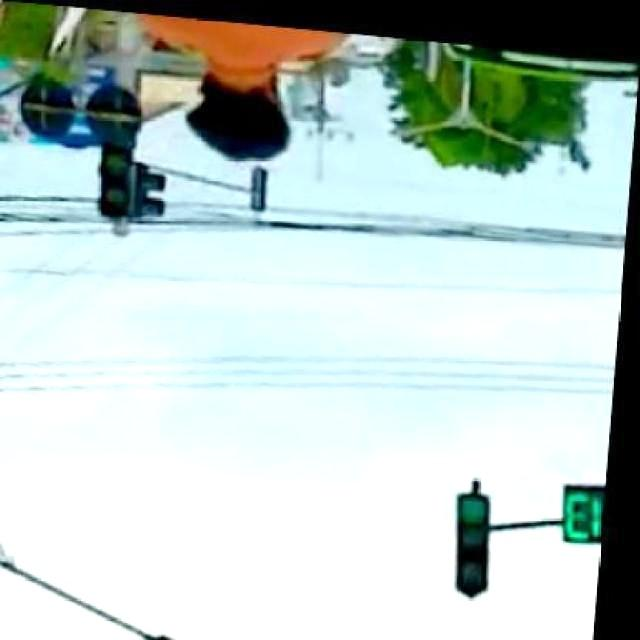Green: (454, 488, 500, 598)
